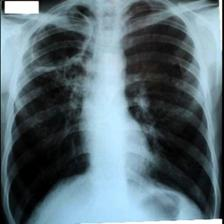tuberculosis: (1, 1, 223, 224)
